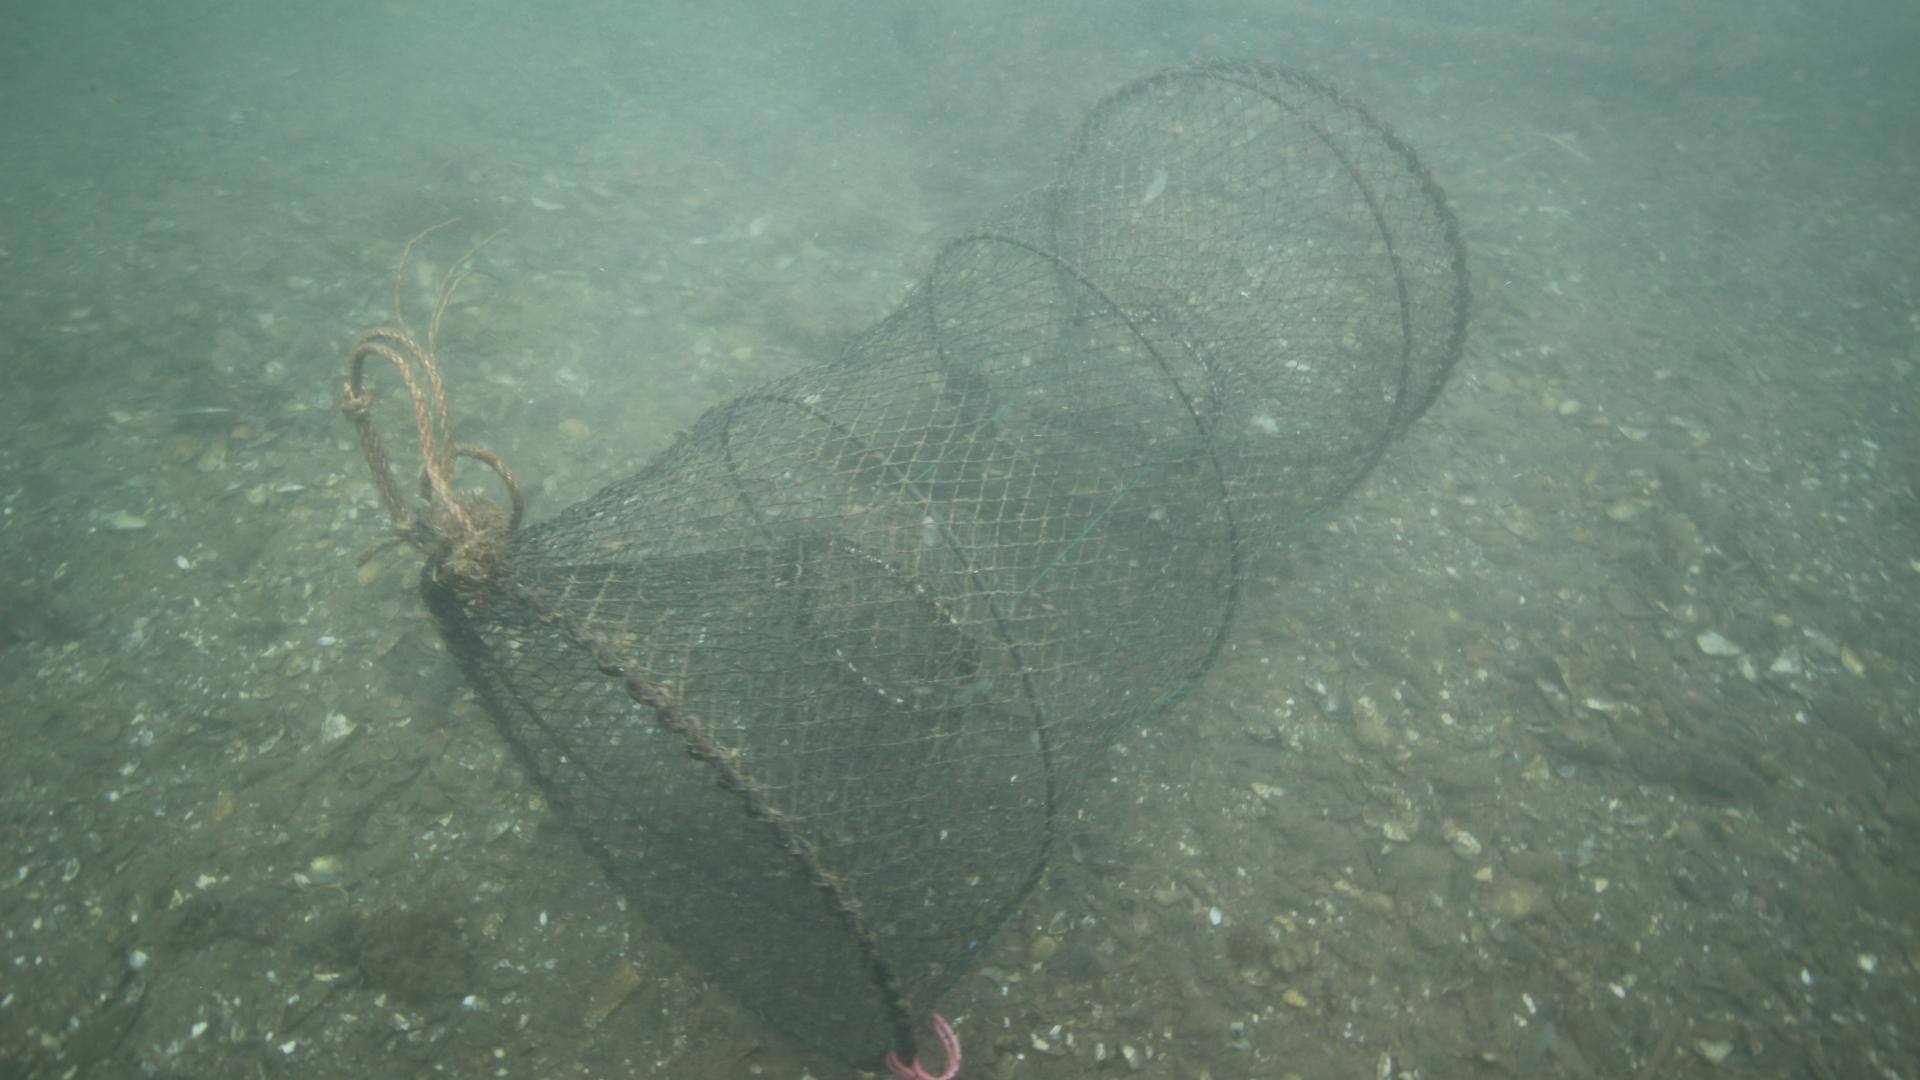bundle of ropes: (334, 324, 522, 553)
spring fish trap: (415, 51, 1473, 1080)
